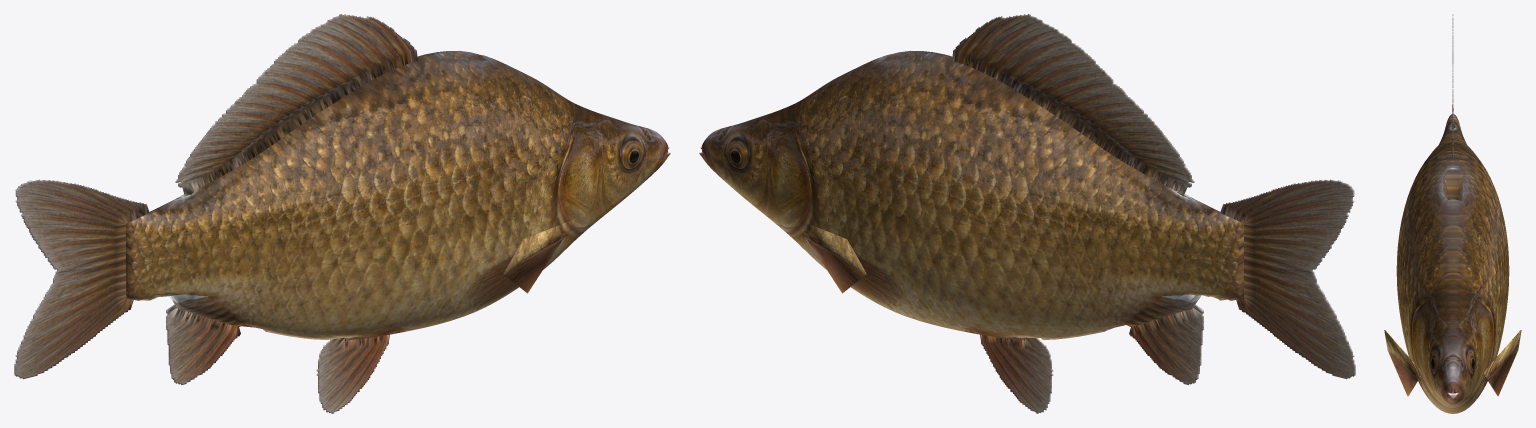
Rendered from crucian_carp.glb.
3 renders of one model, left to right at view 1: azimuth 30°, elevation 25°; view 2: azimuth 150°, elevation 25°; view 3: azimuth 270°, elevation 25°, orthographic. The views are drawn at different scales.
Visible parts, largest first — view 1: crucian_carp_realistic.004; view 2: crucian_carp_realistic.004; view 3: crucian_carp_realistic.004.
Part boxes in pixels (x1,y1,x2,y2): crucian_carp_realistic.004: (14, 14, 670, 413); crucian_carp_realistic.004: (699, 14, 1355, 413); crucian_carp_realistic.004: (1384, 14, 1521, 413).
Bounding box in the file's own units: 1 × 0.5797 × 0.2098.
Materials: 3 (3 with a texture image).
